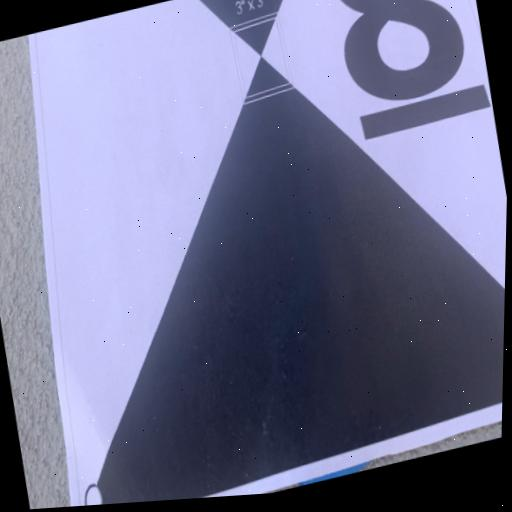target8: (28, 0, 507, 507)
